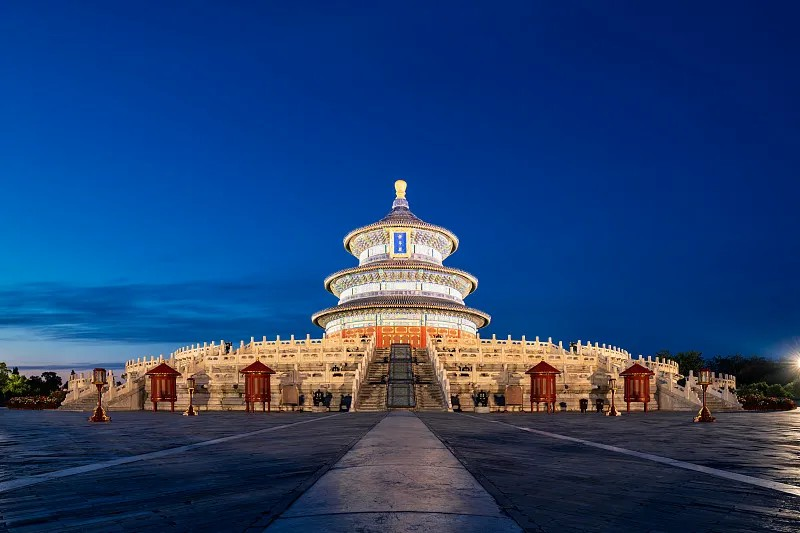Heaven: (309, 179, 491, 349)
